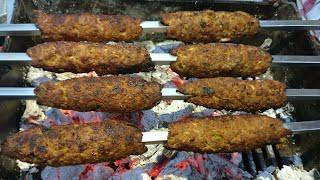Kebab: (0, 120, 149, 167), (166, 113, 294, 154), (34, 75, 163, 113), (27, 41, 157, 74), (176, 76, 287, 114), (169, 42, 274, 78), (34, 10, 143, 41), (161, 10, 259, 42)
